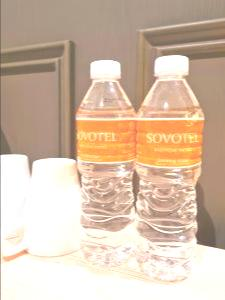bottle: (128, 51, 206, 286), (72, 54, 142, 274)
